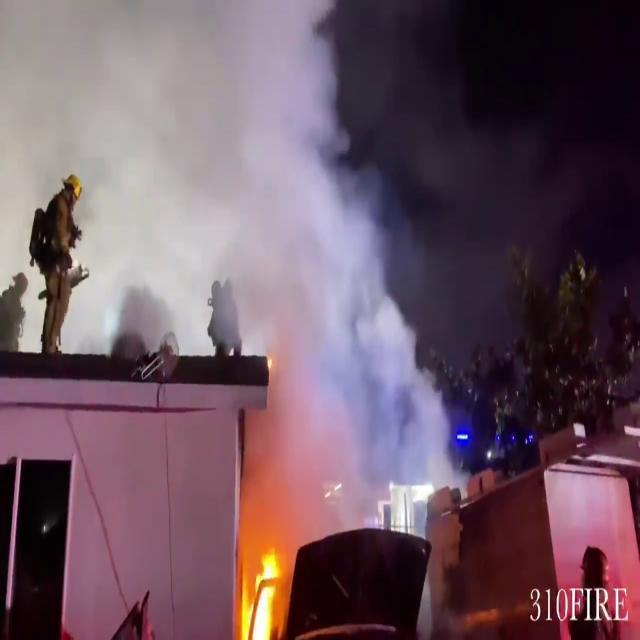Fire: (237, 542, 285, 640)
Smoke: (0, 0, 378, 336), (243, 219, 434, 516)
